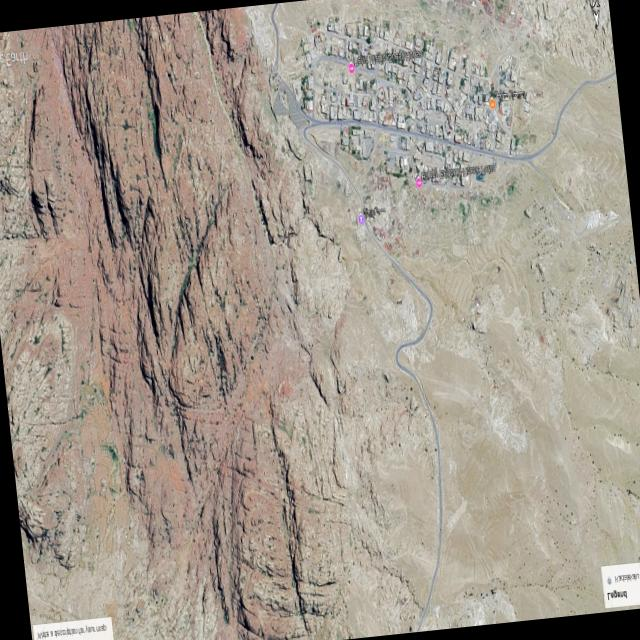artifacts: (305, 0, 509, 203)
ruins: (432, 262, 566, 450), (518, 217, 640, 417), (115, 207, 206, 443), (1, 311, 93, 448), (546, 124, 632, 240), (66, 382, 128, 534), (513, 0, 614, 83), (410, 238, 498, 322)
